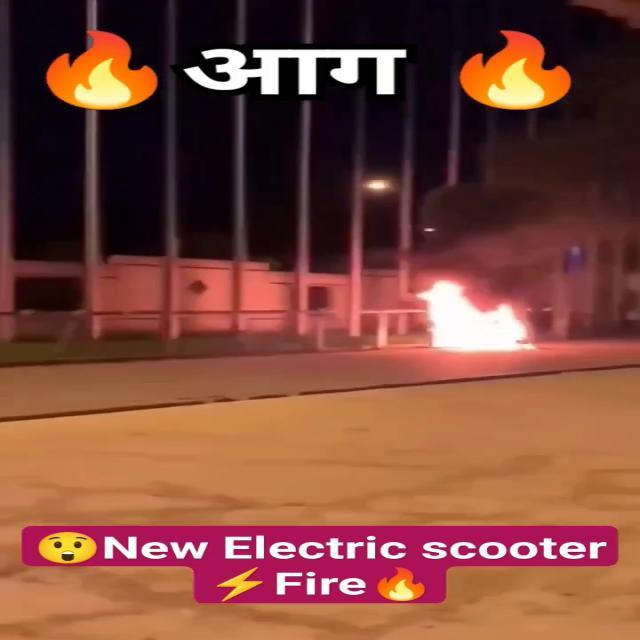Fire: (405, 272, 545, 356)
Smoke: (416, 153, 640, 293)
